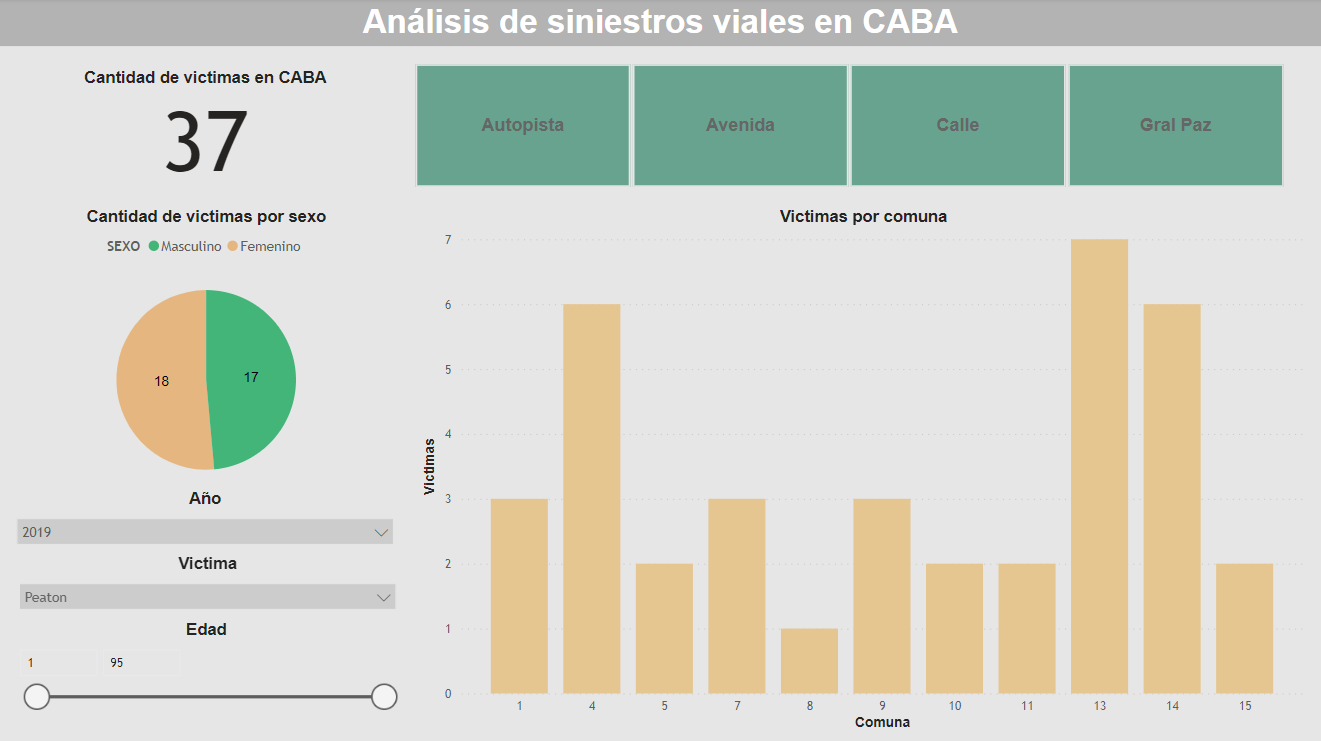

The dashboard page shown, as its layout file describes it:
{"tool":"powerbi","page":{"name":"Siniestros","canvas":[1280,720],"ordinal":1},"visuals":[{"type":"textbox","box":[0,0,1280,46],"z":0},{"type":"card","title":"Cantidad de victimas en CABA","fields":{"Values":["Sum(homicidios_final (2).N_VICTIMAS)"]},"box":[8,68,385,109],"z":1000},{"type":"pieChart","title":"Cantidad de victimas por sexo","fields":{"Category":["homicidios_final (2).SEXO"],"Y":["CountNonNull(homicidios_final (2).COMUNA)"]},"box":[8,201,387.1,287],"z":2000},{"type":"columnChart","title":"Victimas por comuna","fields":{"Y":["Sum(homicidios_final (2).N_VICTIMAS)"],"Category":["homicidios_final (2).COMUNA"]},"box":[407,201.4,859,510],"z":3000},{"type":"slicer","title":"Año","fields":{"Values":["homicidios_final (2).Anio"]},"box":[8.4,474,384.7,73.6],"z":4000},{"type":"slicer","title":"Edad","fields":{"Values":["homicidios_final (2).EDAD"]},"box":[9.6,600.6,384.7,95.3],"z":5000},{"type":"slicer","title":"Victima","fields":{"Values":["homicidios_final (2).VICTIMA"]},"box":[10.9,536.7,384.7,66.3],"z":6000},{"type":"slicer","fields":{"Values":["homicidios_final (2).TIPO_DE_CALLE"]},"box":[377.5,56.7,887.6,132.7],"z":7000}]}

Visuals, with their boxes in screenshot pixels (x1, y1, x2, y2), scaled from the page's 1280x720 canvas onto the 1321x741 screenshot:
textbox: region(0, 0, 1320, 47)
"Cantidad de victimas en CABA" card: region(8, 70, 406, 182)
"Cantidad de victimas por sexo" pieChart: region(8, 207, 408, 502)
"Victimas por comuna" columnChart: region(420, 207, 1307, 732)
"Año" slicer: region(9, 488, 406, 564)
"Edad" slicer: region(10, 618, 407, 716)
"Victima" slicer: region(11, 552, 408, 621)
slicer - homicidios_final (2).TIPO_DE_CALLE: region(390, 58, 1306, 195)
